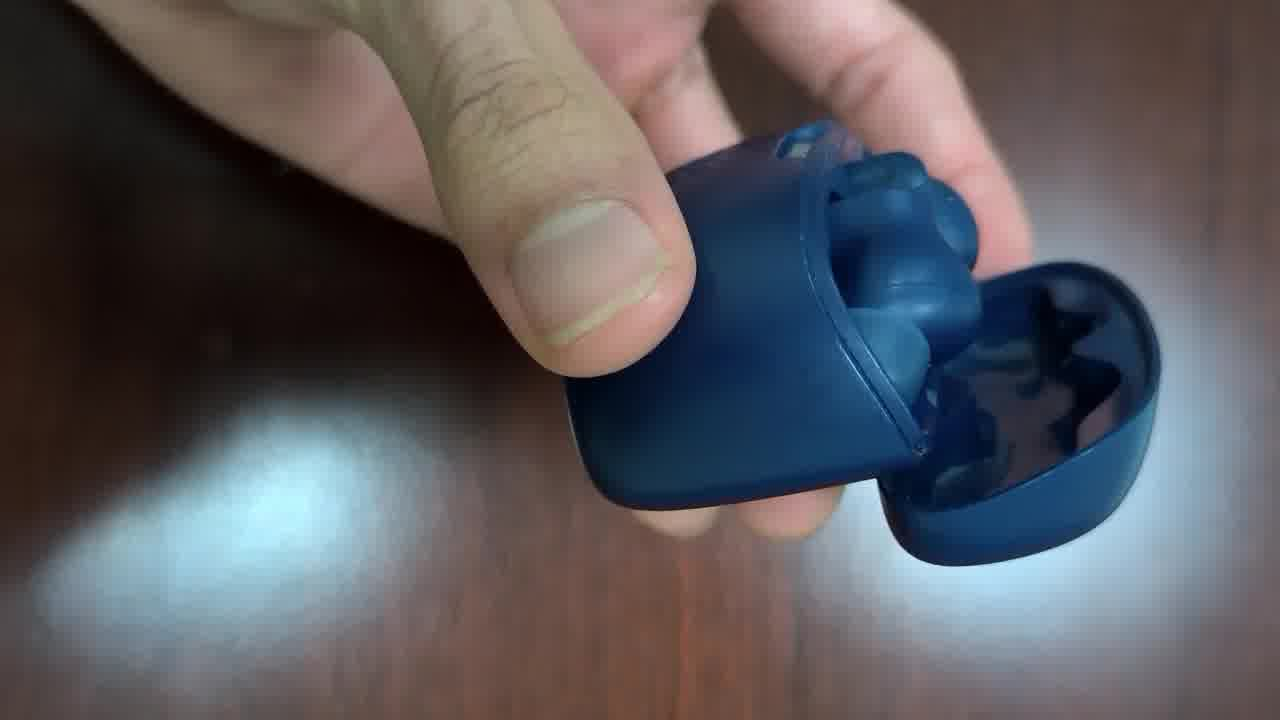Case: (566, 121, 1159, 563)
Earbud: (827, 153, 981, 400)
